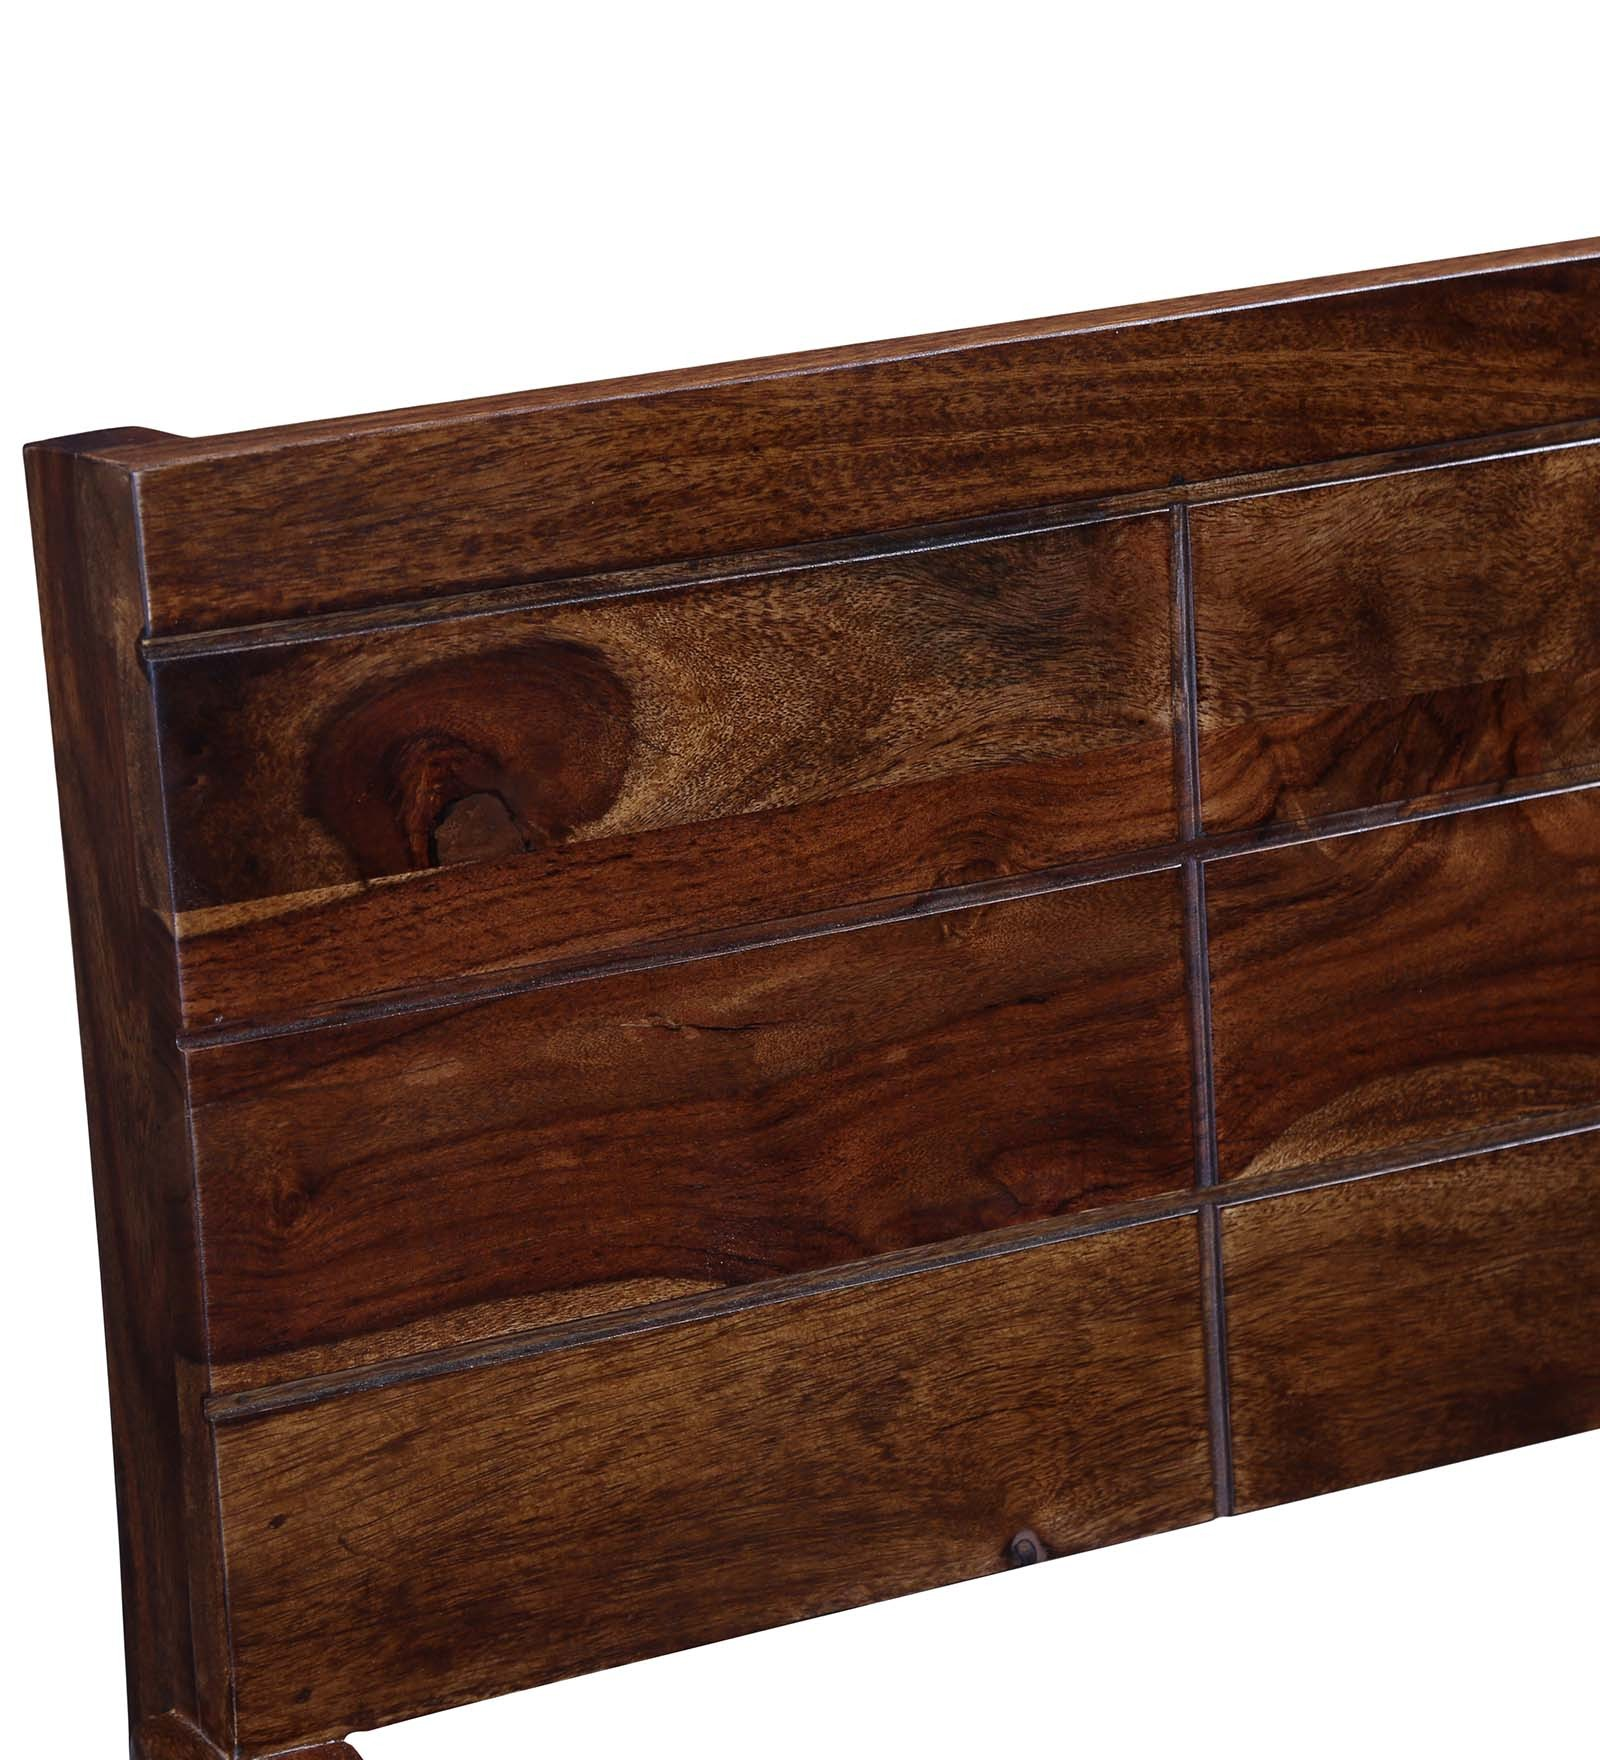Segur Arm Chair in Provincial Teak Finish by Woodsworth: (18, 348, 1577, 1735)
